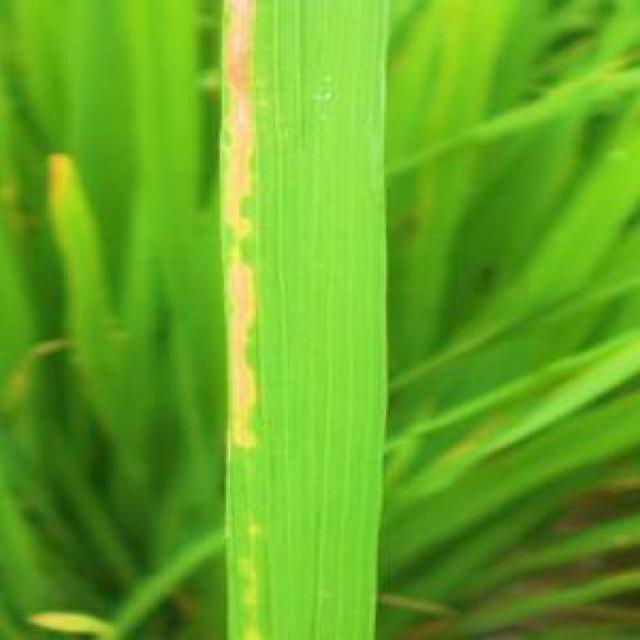Bacterial_Blight: (220, 0, 261, 247), (219, 251, 263, 461), (41, 149, 79, 222)
